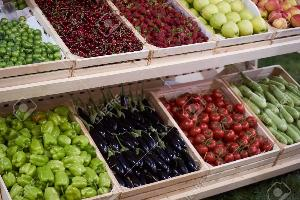apple: (194, 1, 266, 40), (252, 0, 300, 38)
bell_pepper: (0, 98, 92, 200)
eggplant: (94, 86, 186, 186)
strawberry: (126, 1, 208, 56)
tomato: (172, 78, 266, 164)
zucchini: (244, 60, 300, 146)
